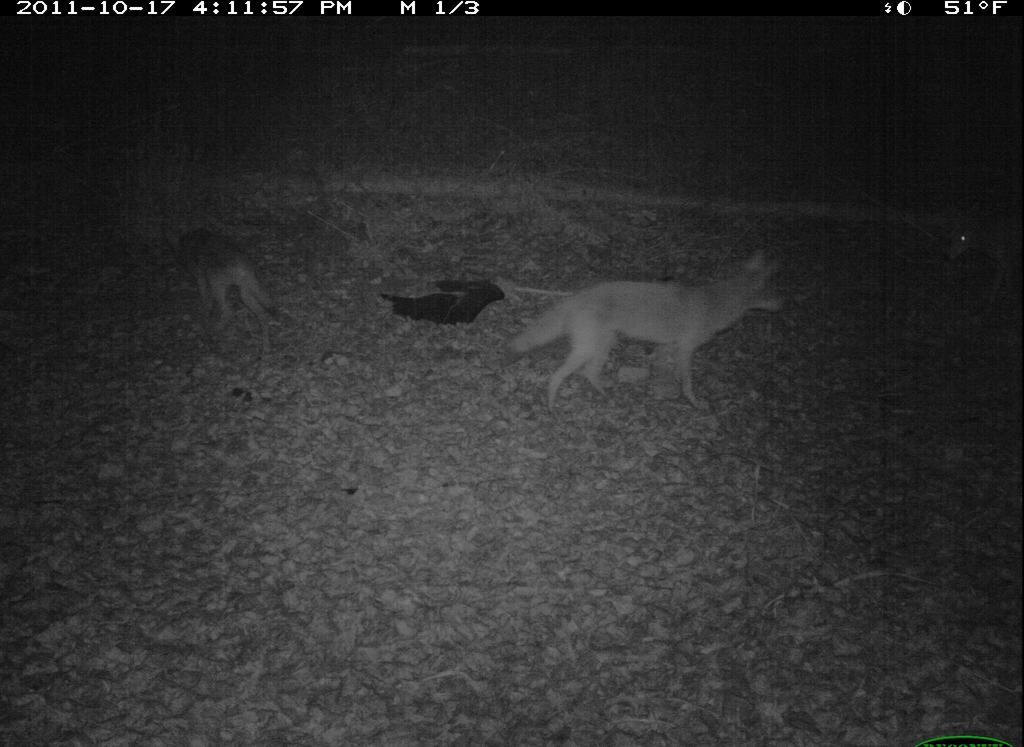coyote: (500, 244, 794, 414), (158, 217, 299, 385)
